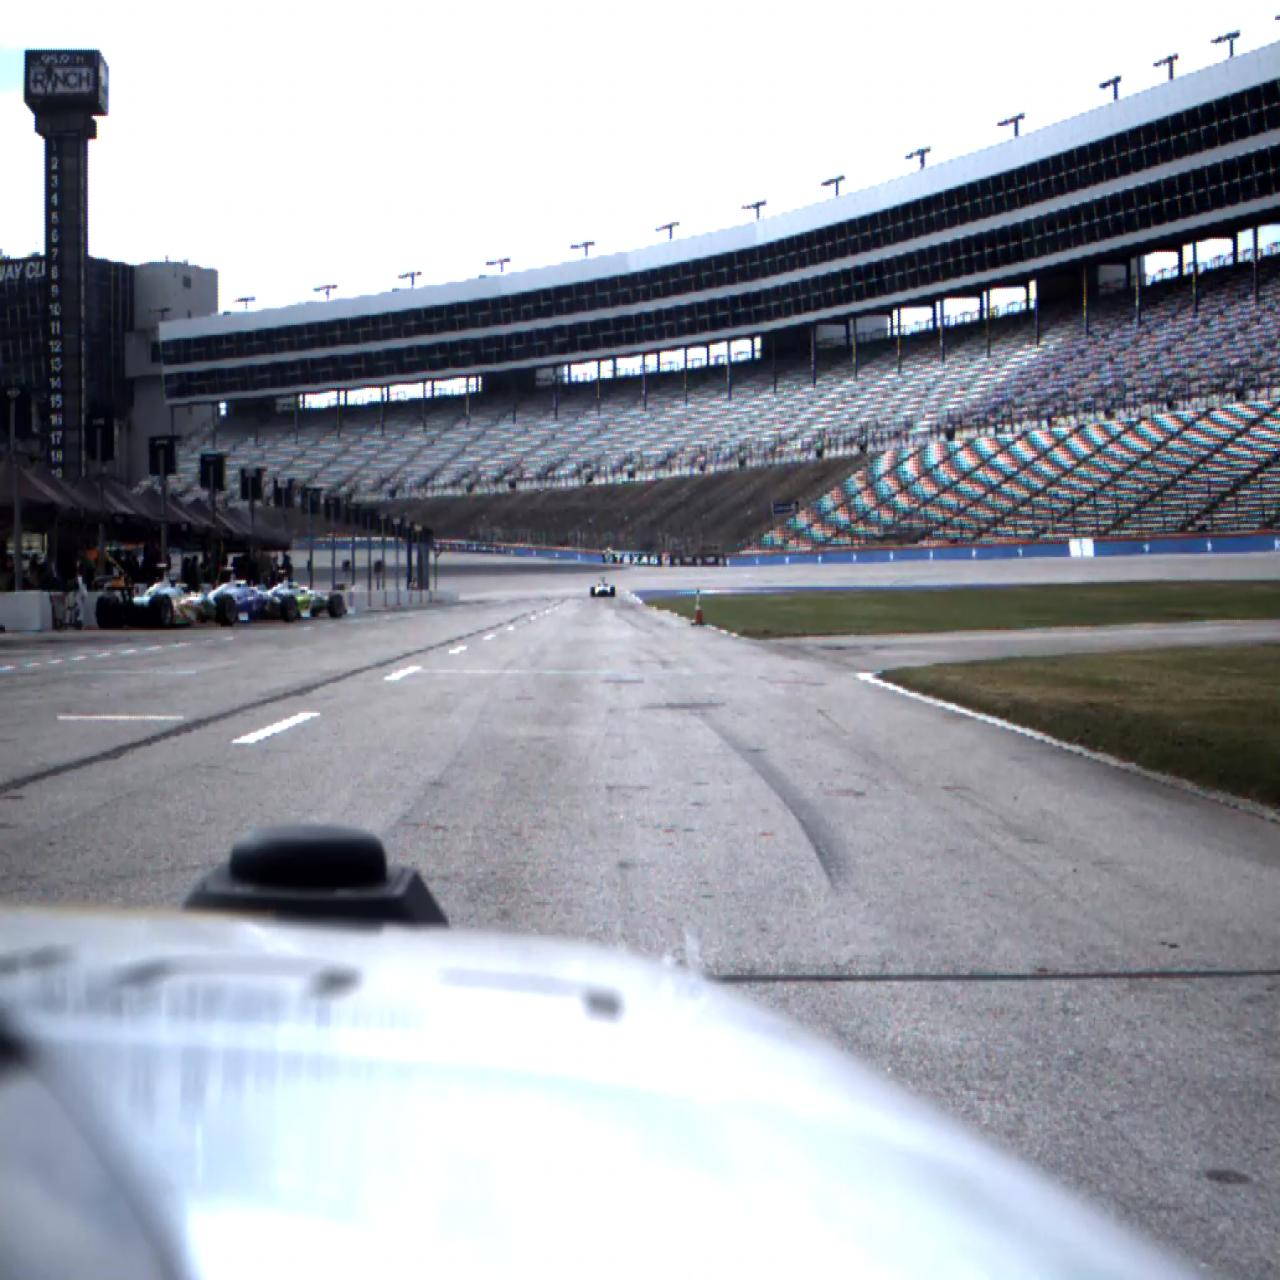AV: (96, 563, 238, 631), (591, 577, 615, 598)
Wheel: (148, 594, 173, 629), (96, 594, 120, 629), (216, 595, 238, 627), (281, 595, 298, 622), (328, 594, 345, 618), (591, 587, 595, 598), (612, 586, 615, 597)
